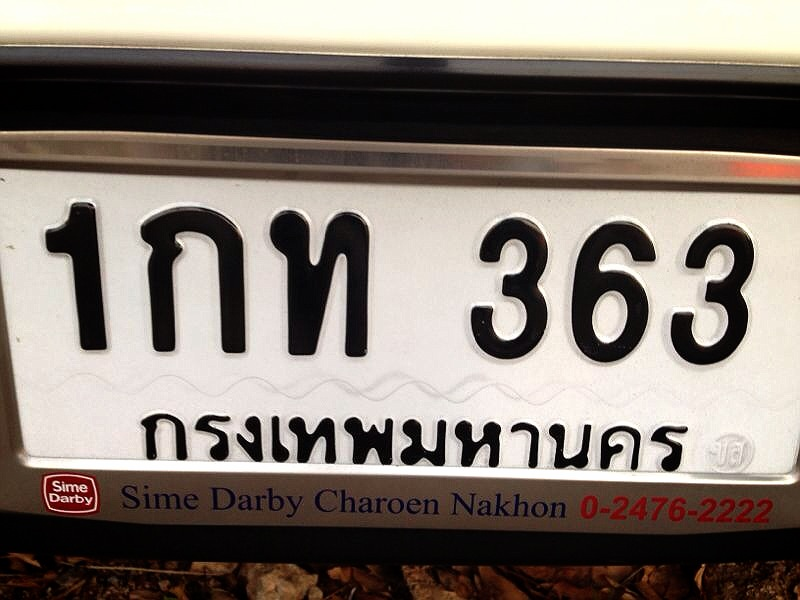Bangkok: (123, 382, 699, 491)
